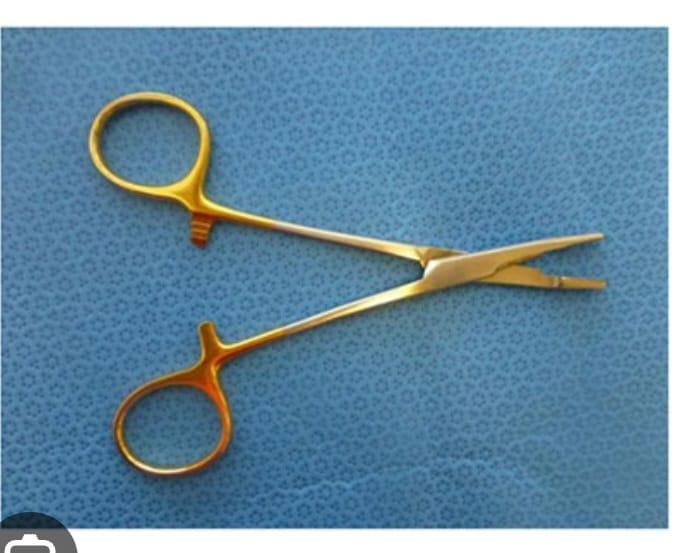Needle Holder: (75, 85, 612, 482)
